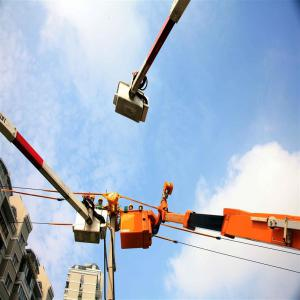yellow: (91, 195, 96, 203), (100, 198, 105, 206), (139, 205, 144, 211), (130, 204, 134, 211)
